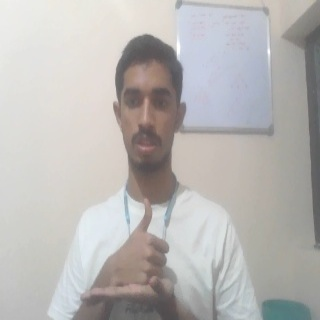Face: (111, 33, 189, 175)
Help: (78, 196, 179, 304)
